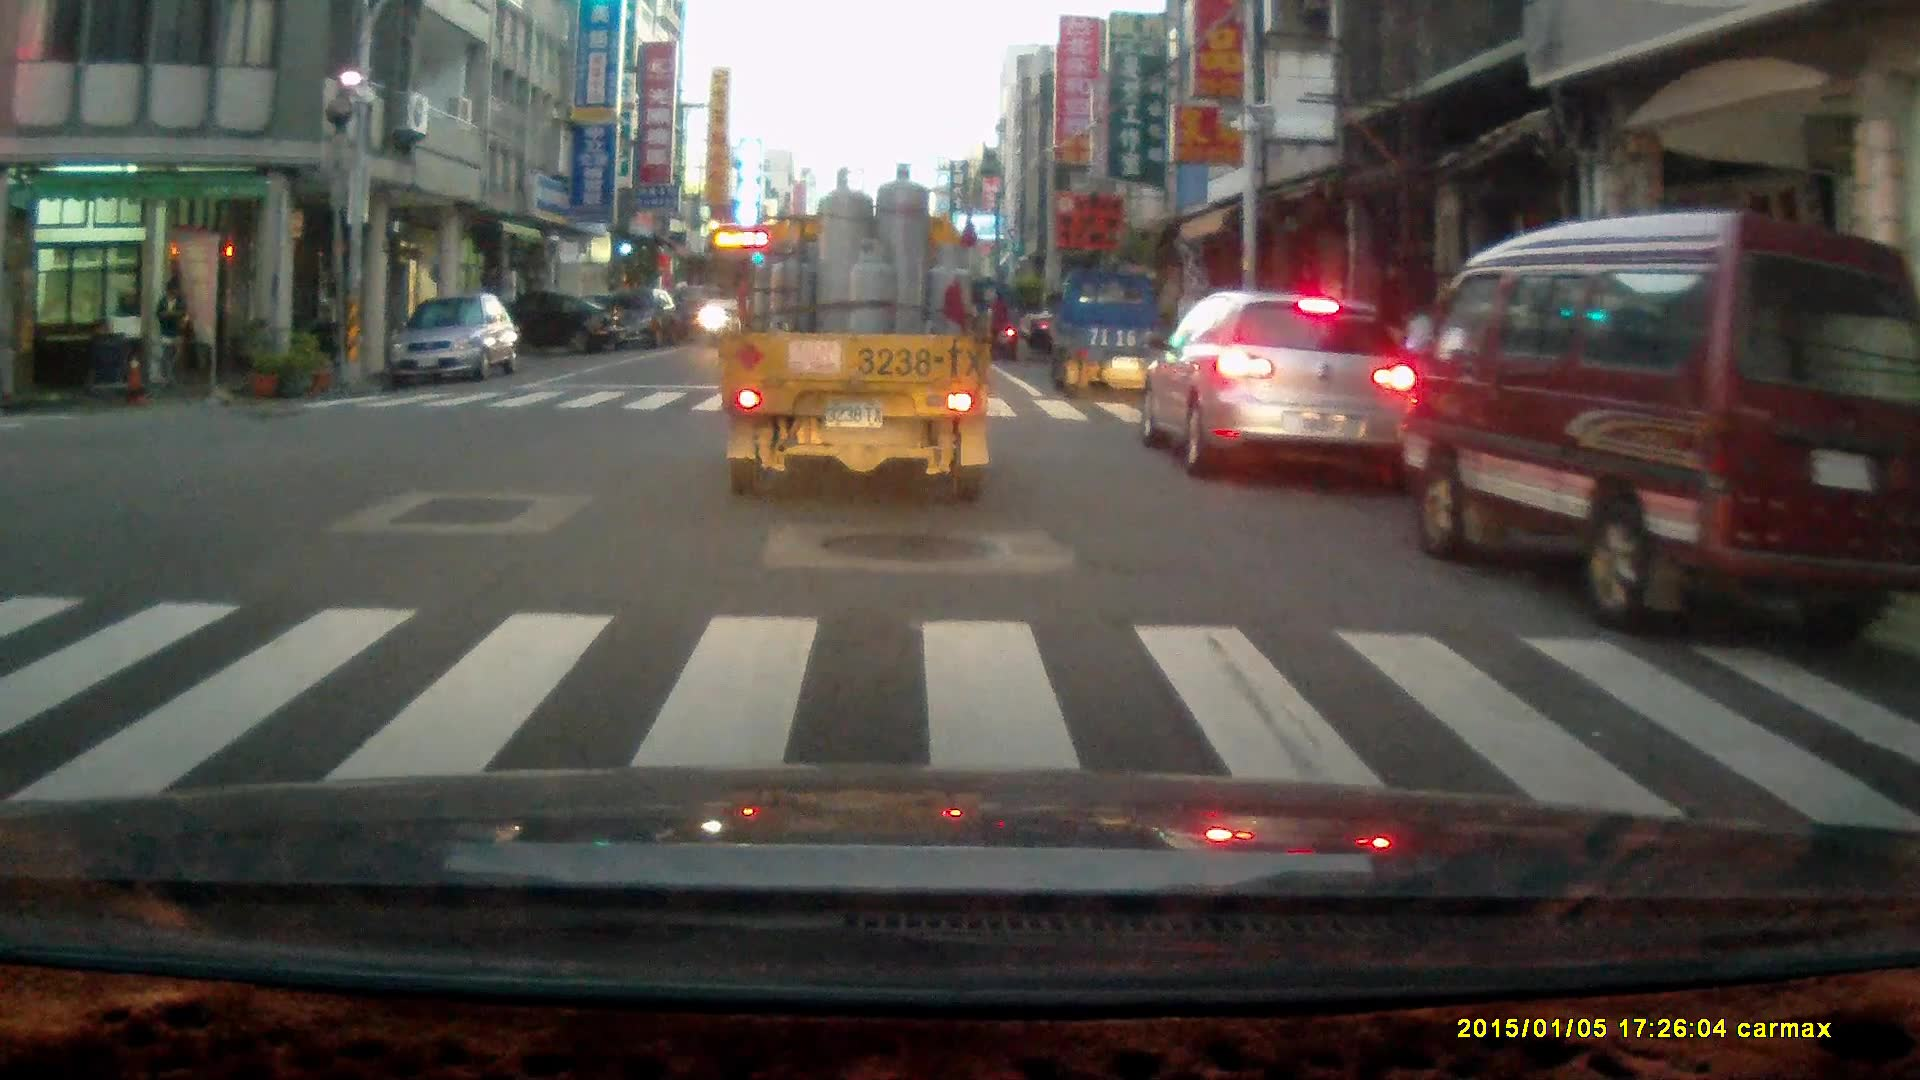pedestrian: (153, 274, 189, 395)
vehicle: (1405, 210, 1914, 643), (721, 166, 995, 508), (1141, 288, 1410, 488), (1051, 272, 1189, 410), (385, 292, 517, 385), (460, 294, 621, 363), (585, 283, 674, 353)
